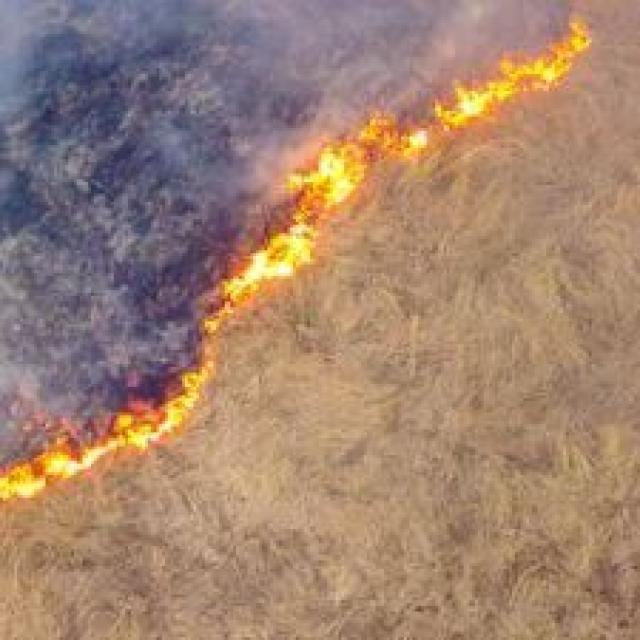Fire: (5, 302, 240, 500), (242, 131, 426, 294), (434, 37, 612, 133)
Smoke: (20, 9, 278, 442), (278, 0, 538, 154)
